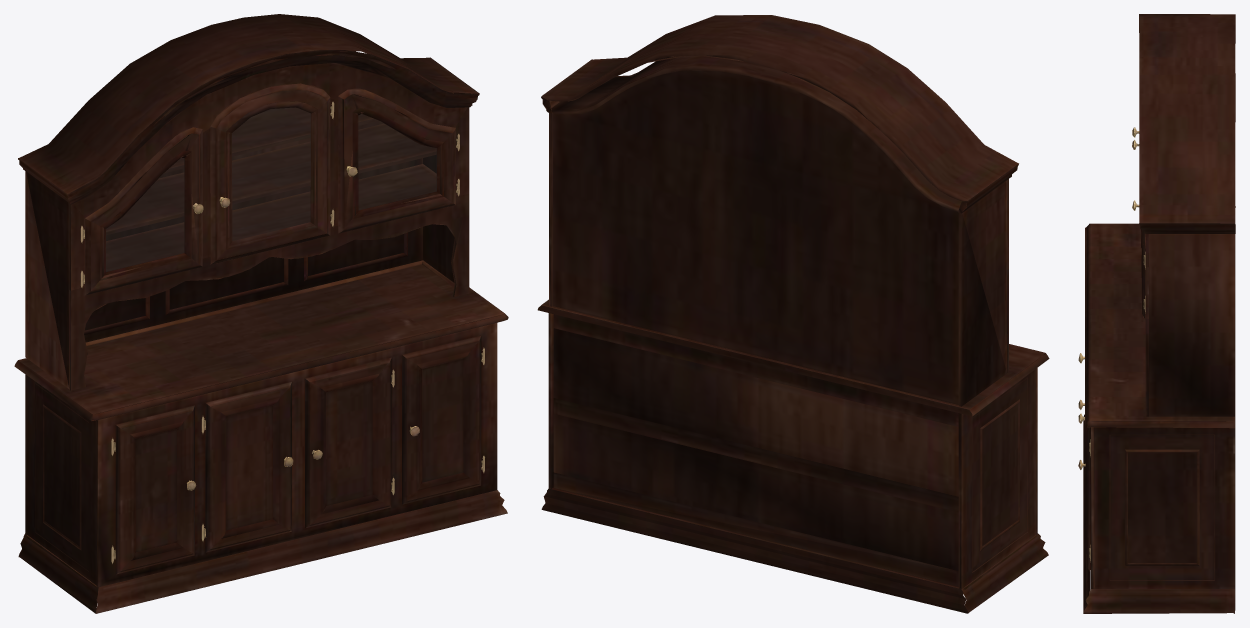
File: vintage_cabinet_01.glb
3 renders of one model, left to right at view 1: azimuth 30°, elevation 25°; view 2: azimuth 150°, elevation 25°; view 3: azimuth 270°, elevation 25°, orthographic. The views are drawn at different scales.
Parts seen in each view (by area): view 1: vintage_cabinet_01_body; view 2: vintage_cabinet_01_body; view 3: vintage_cabinet_01_body.
Boxes of the visible parts, left/top/right/bottom form: vintage_cabinet_01_body: left=14, top=14, right=508, bottom=613; vintage_cabinet_01_body: left=537, top=15, right=1049, bottom=613; vintage_cabinet_01_body: left=1078, top=14, right=1235, bottom=613.
Bounding box in the file's own units: 2.02 × 2.23 × 0.6706.
Materials: 3 (2 with a texture image).
